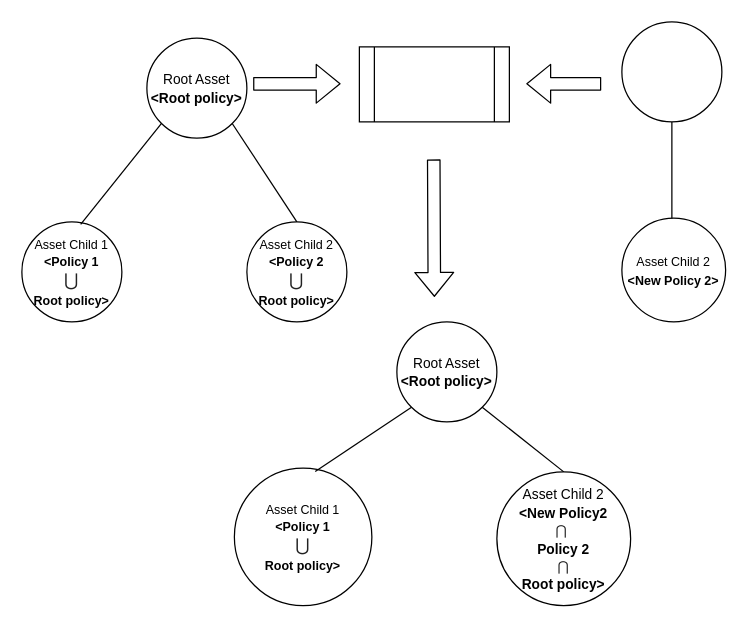
Image size: 748x628. Some labels were removed from this diagram. Here are the shapes that lost their labels. From the top down, the centre of each, then its label:
At pixel 433 84: "Intersection".
At pixel 671 71: "Root Asset No Policy".
